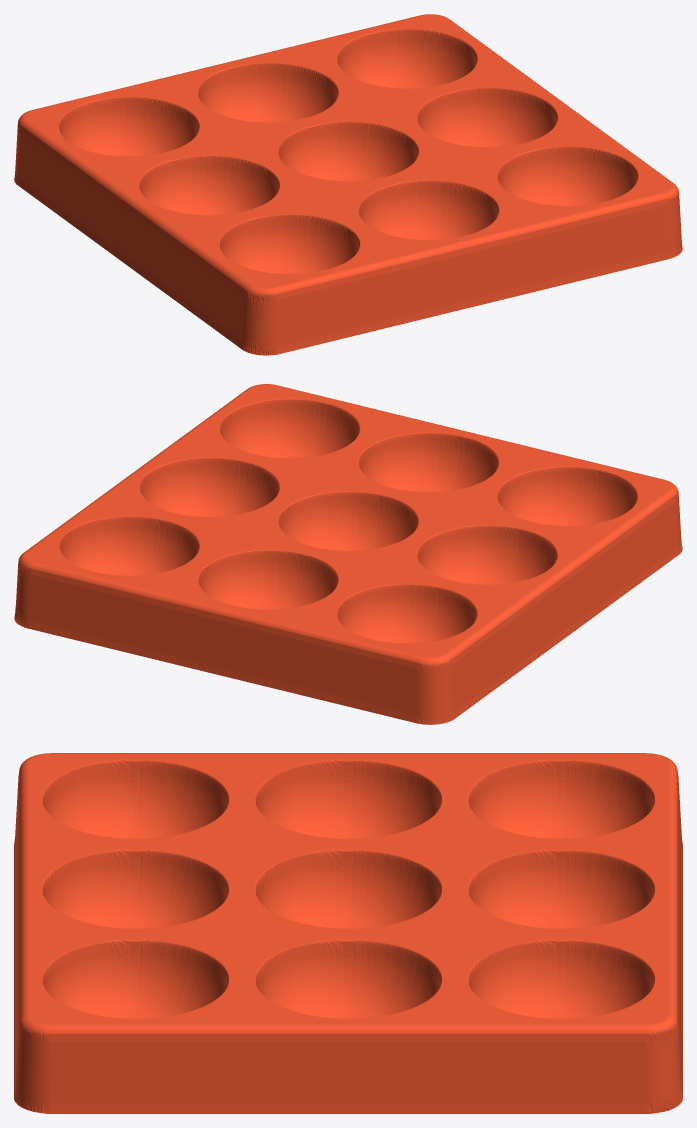
File: mold.glb
3 views of the same model, one above another, from view 1: azimuth 30°, elevation 25°; view 2: azimuth 150°, elevation 25°; view 3: azimuth 270°, elevation 25° (orthographic). The views are drawn at different scales.
Parts seen in each view (by area): view 1: geometry_0; view 2: geometry_0; view 3: geometry_0.
Part boxes in pixels (x1=…): geometry_0: x1=14, y1=14, x2=682, y2=355; geometry_0: x1=14, y1=384, x2=682, y2=724; geometry_0: x1=14, y1=753, x2=682, y2=1113.
Size of the model in its own units: 0.1621 by 0.0223 by 0.1621.
